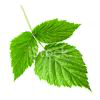Raspberry leaf: (34, 41, 92, 92), (8, 29, 38, 82), (32, 17, 82, 43)
